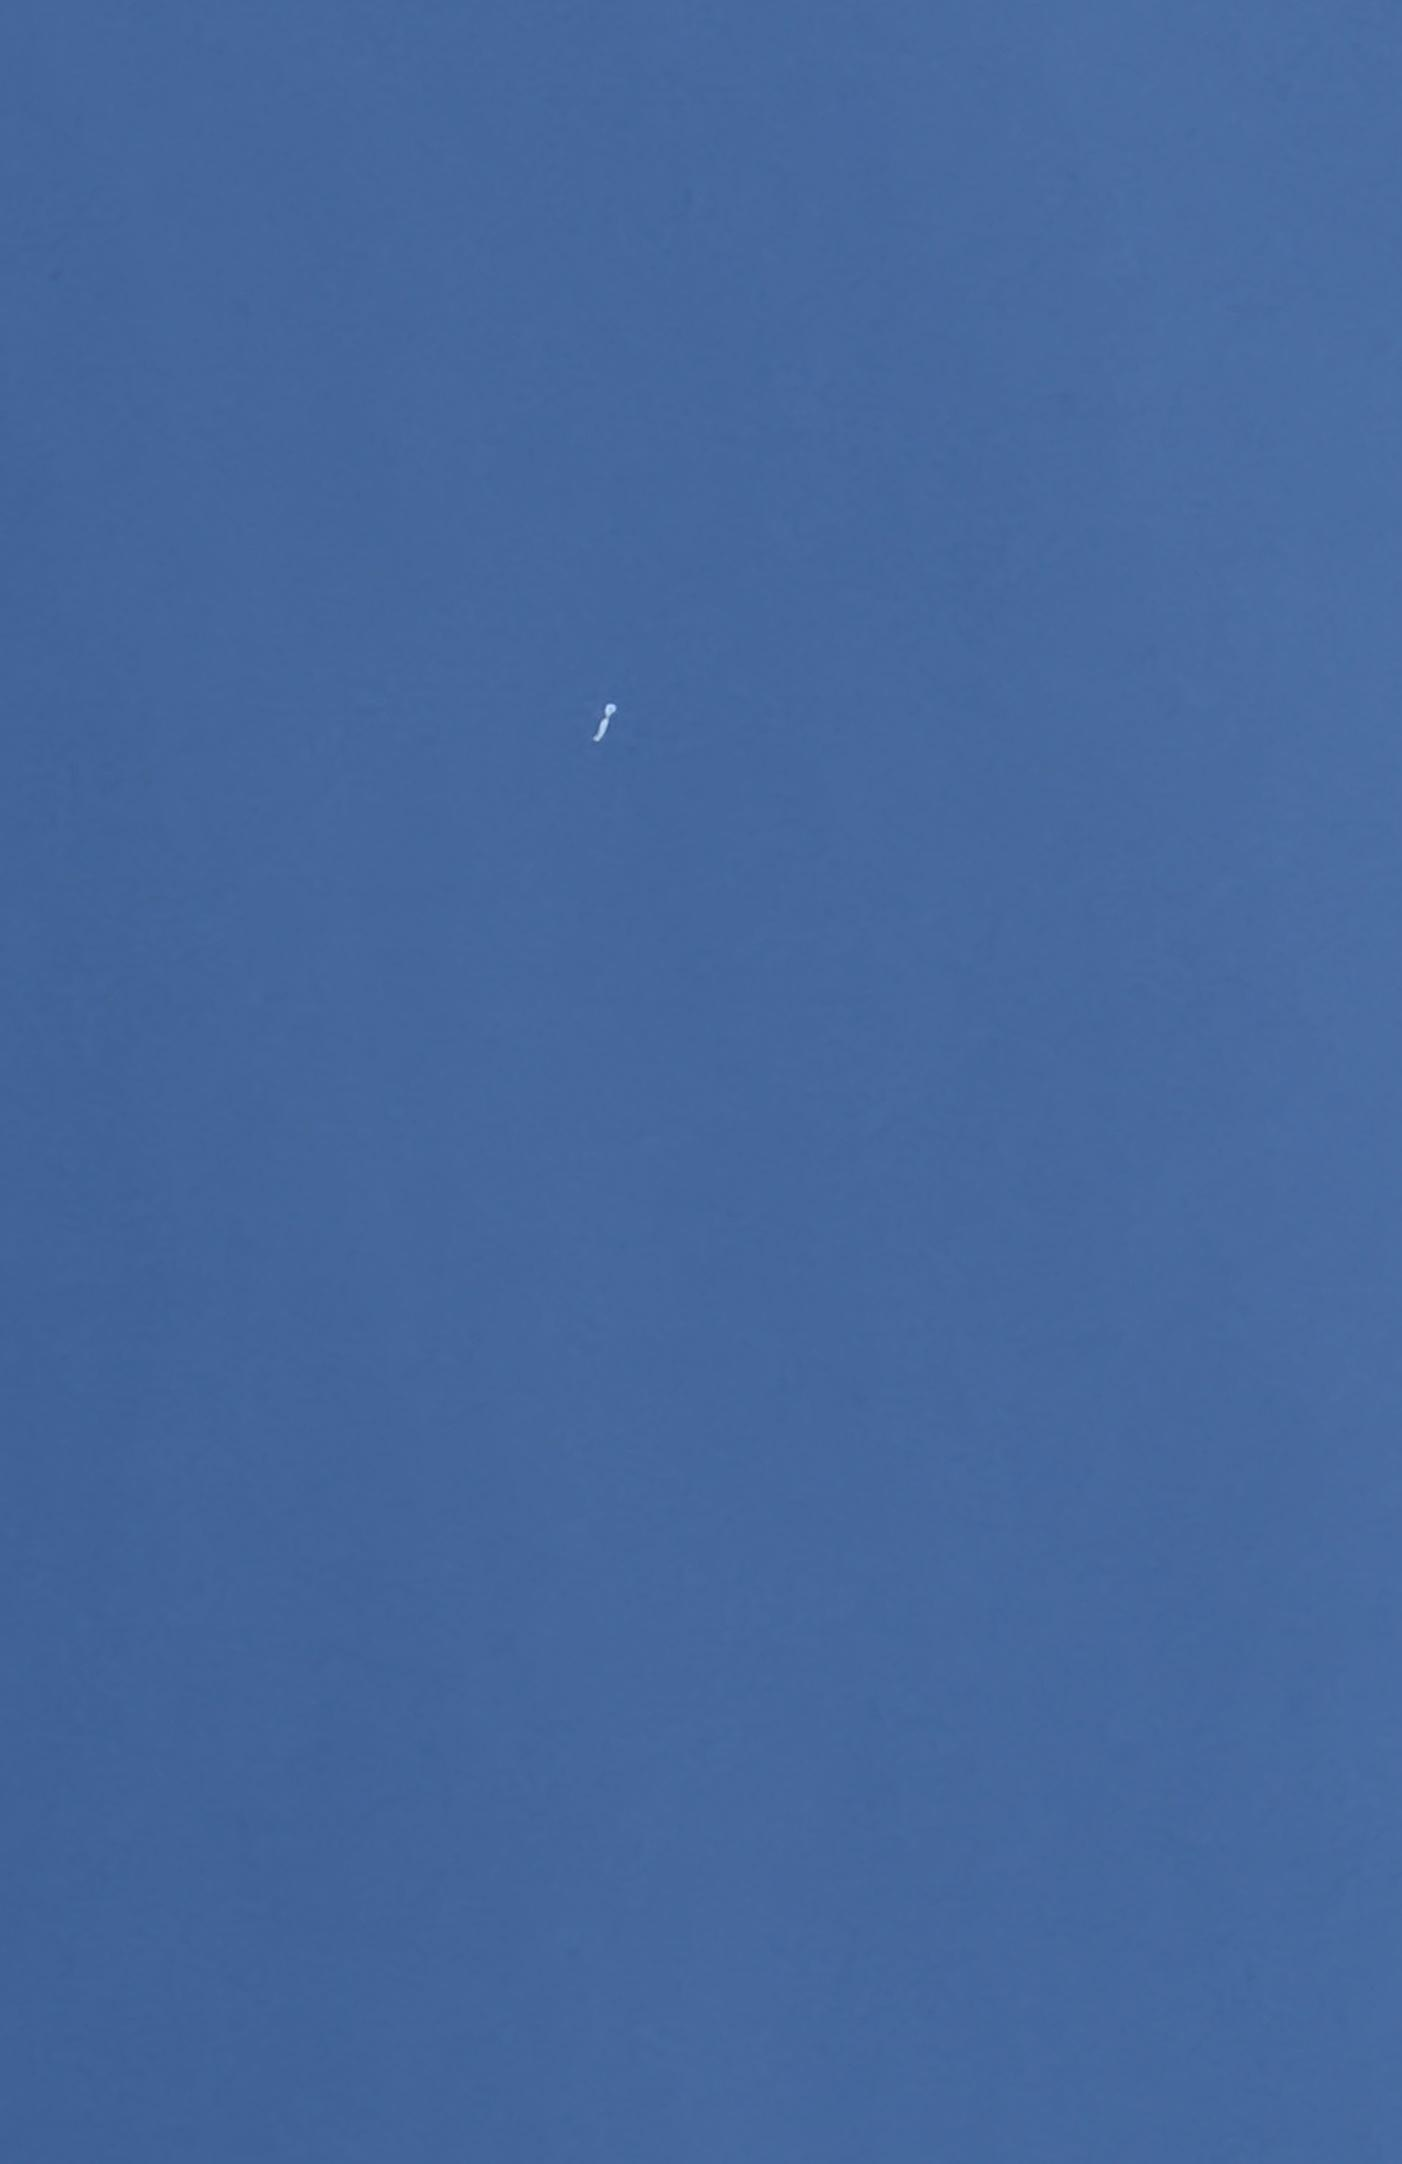Plane: (561, 663, 648, 773)
